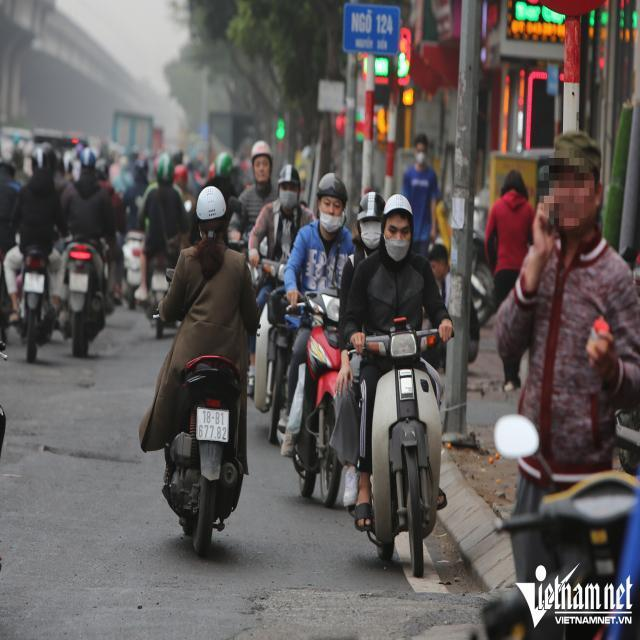motorcycle: (326, 300, 476, 592), (473, 432, 639, 634), (264, 274, 358, 514), (154, 346, 252, 560), (50, 235, 112, 363), (122, 225, 179, 343), (8, 238, 61, 362)
plate: (546, 588, 636, 631), (191, 403, 236, 446), (19, 268, 49, 298), (64, 267, 93, 297)
